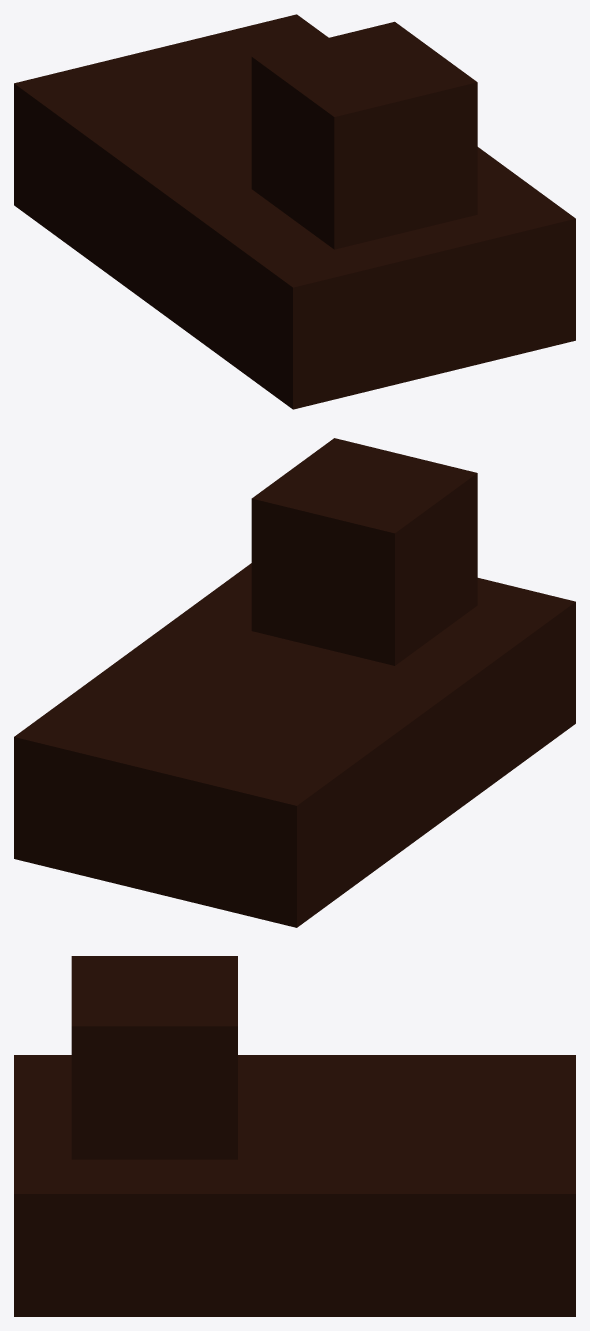
The model's file is model_dungeon_wall_torch.glb.
The picture shows the model from 3 angles, top to bottom: view 1: azimuth 30°, elevation 25°; view 2: azimuth 150°, elevation 25°; view 3: azimuth 270°, elevation 25°; orthographic projection.
Visible parts, largest first — view 1: dungeon_wall_torch_body; view 2: dungeon_wall_torch_body; view 3: dungeon_wall_torch_body.
Part boxes in pixels (left/top/right/bottom): dungeon_wall_torch_body: left=14, top=14, right=575, bottom=409; dungeon_wall_torch_body: left=14, top=438, right=575, bottom=927; dungeon_wall_torch_body: left=14, top=956, right=575, bottom=1316.
Bounding box in the file's own units: 1.17 × 1.01 × 2.
